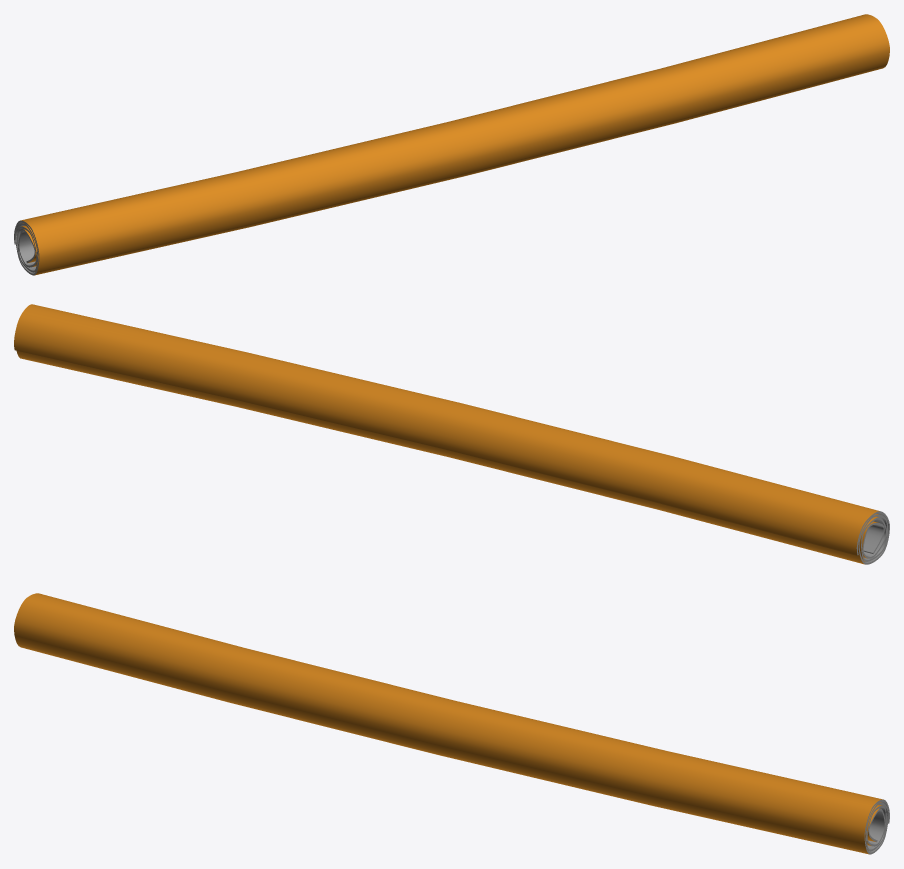
Rendered from SM_Carpet_02_roll.FBX.
3 views of the same model, one above another, from view 1: azimuth 30°, elevation 25°; view 2: azimuth 150°, elevation 25°; view 3: azimuth 330°, elevation 25° (orthographic).
Visible parts, largest first — view 1: SM_Carpet_02_roll; view 2: SM_Carpet_02_roll; view 3: SM_Carpet_02_roll.
Boxes of the visible parts, x1,y1,x2,y2 form: SM_Carpet_02_roll: (14,14,889,275); SM_Carpet_02_roll: (14,304,889,564); SM_Carpet_02_roll: (14,593,889,854).
Size of what is drawn, in the model's own units: 401 by 22.01 by 28.81.
